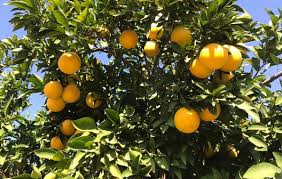orange: (173, 106, 201, 136), (220, 41, 244, 74), (199, 44, 227, 69), (195, 97, 221, 122), (170, 23, 195, 48), (188, 57, 214, 80), (118, 28, 141, 51), (58, 54, 81, 75), (40, 81, 63, 99), (63, 85, 81, 103), (46, 97, 64, 115), (144, 41, 159, 58)
